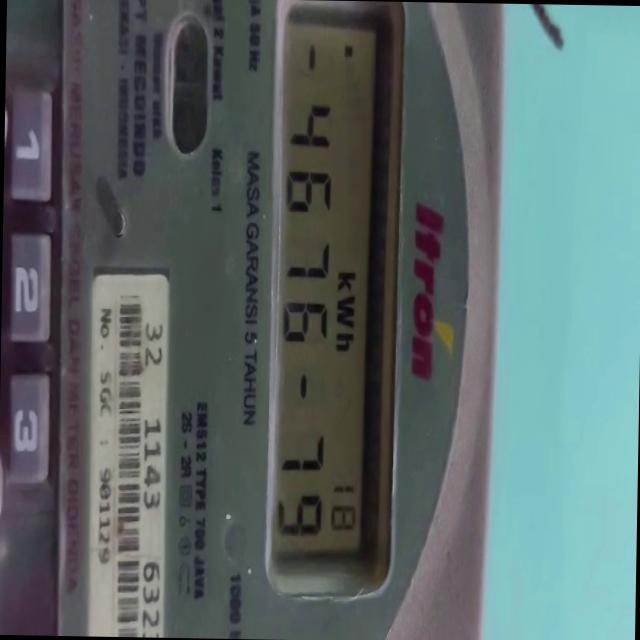LCD: (268, 17, 397, 561)
